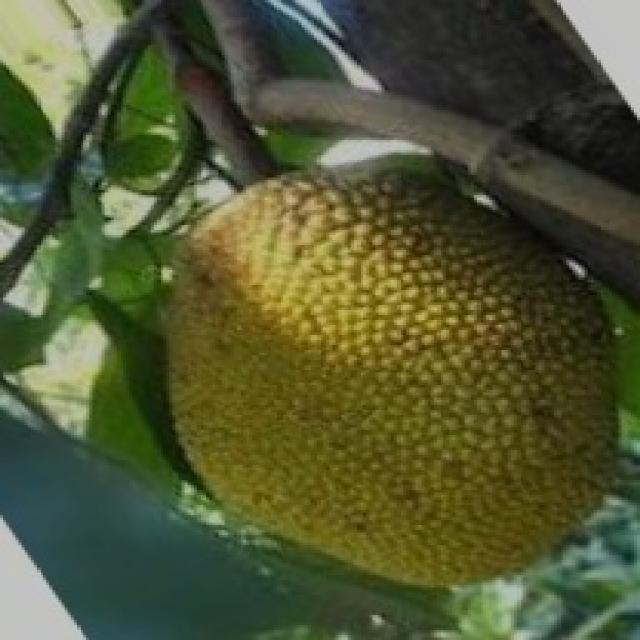Fruit: (261, 255, 640, 630)
